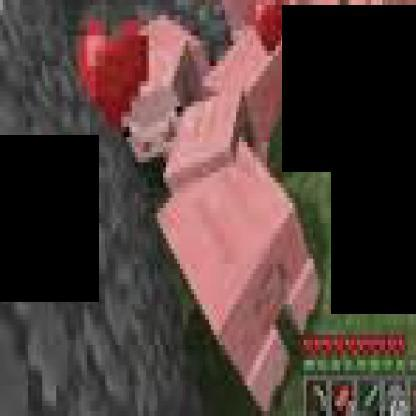minecraft-pigs: (156, 86, 328, 414), (103, 0, 338, 173), (328, 0, 414, 213)
